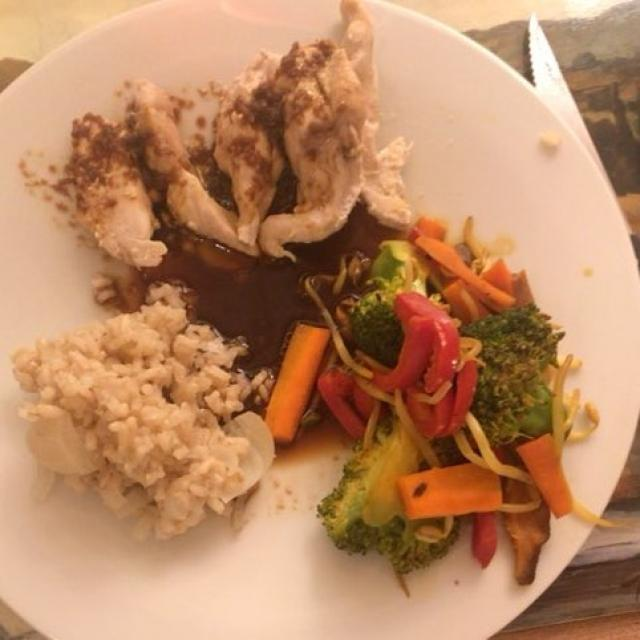chicken-breast: (71, 8, 410, 270)
mixed-vegetables: (273, 220, 588, 578)
rice: (11, 299, 269, 530)
sauce: (124, 91, 393, 406)
sprouts: (315, 268, 542, 518)
